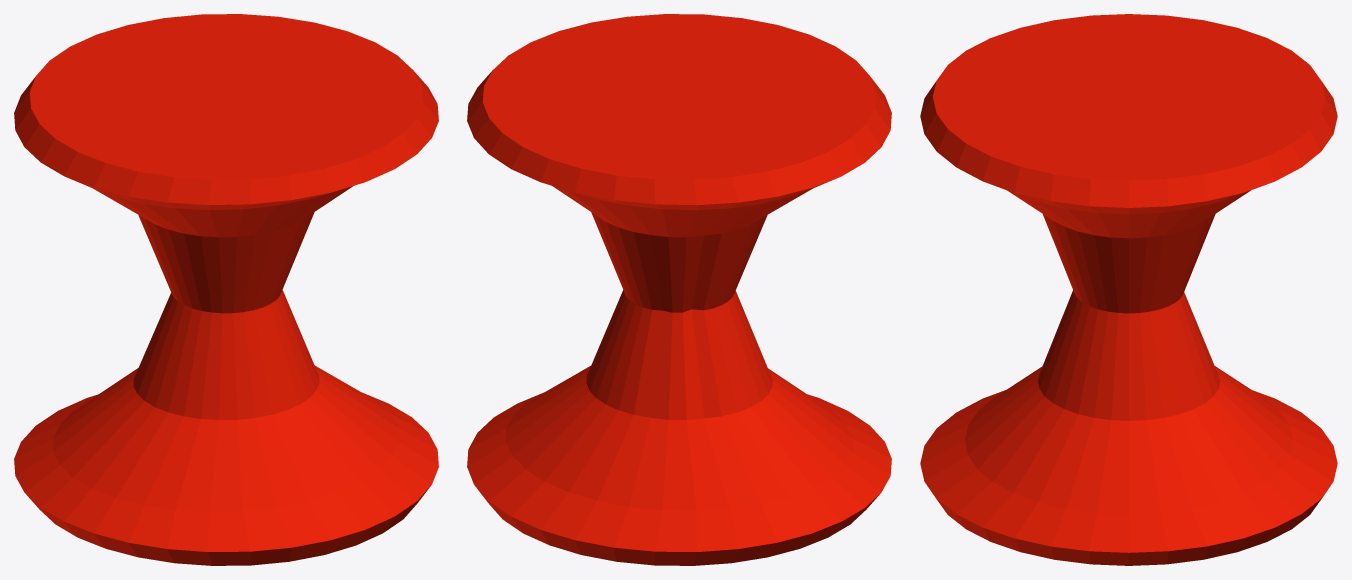
File: pino.fbx
3 views of the same model, side by side, from view 1: azimuth 30°, elevation 25°; view 2: azimuth 150°, elevation 25°; view 3: azimuth 270°, elevation 25° (orthographic).
Parts seen in each view (by area): view 1: Cylinder; view 2: Cylinder; view 3: Cylinder.
Part boxes in pixels (x1,y1,x2,y2): Cylinder: [14, 14, 438, 565]; Cylinder: [467, 14, 891, 565]; Cylinder: [920, 14, 1337, 565].
Size of the model in its own units: 277 by 276 by 271.
